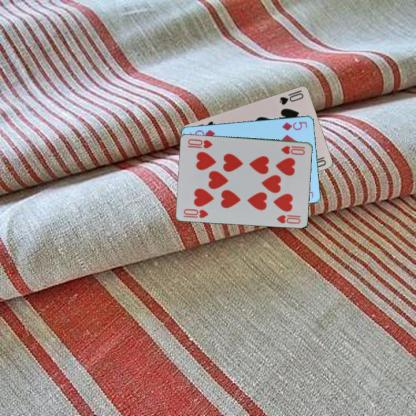10h: (181, 206, 210, 219), (279, 143, 306, 156)
10s: (277, 87, 304, 106)
5d: (280, 119, 309, 132)
